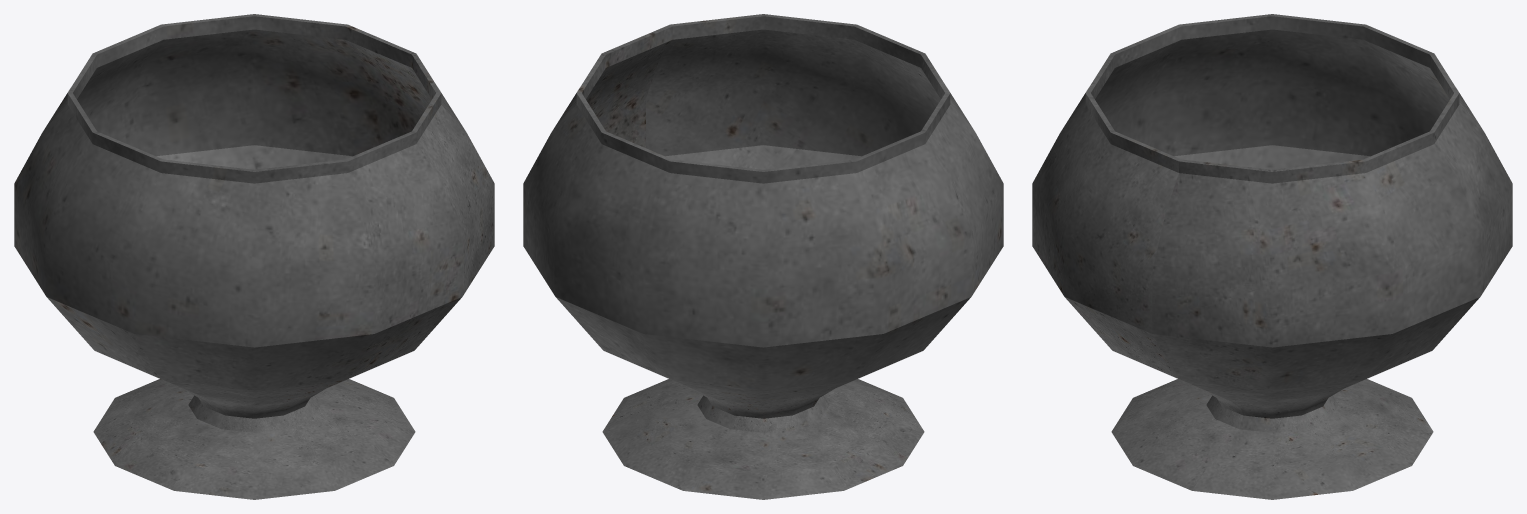
Rendered from FruitBowl.fbx.
3 views of the same model, side by side, from view 1: azimuth 30°, elevation 25°; view 2: azimuth 150°, elevation 25°; view 3: azimuth 270°, elevation 25° (orthographic).
Parts seen in each view (by area): view 1: FruitBowl; view 2: FruitBowl; view 3: FruitBowl.
Boxes of the visible parts, x1,y1,x2,y2 form: FruitBowl: (14,14,494,499); FruitBowl: (523,14,1003,499); FruitBowl: (1032,14,1512,499).
Bounding box in the file's own units: 18.42 × 14.33 × 18.42.
Materials: 1 (1 with a texture image).
